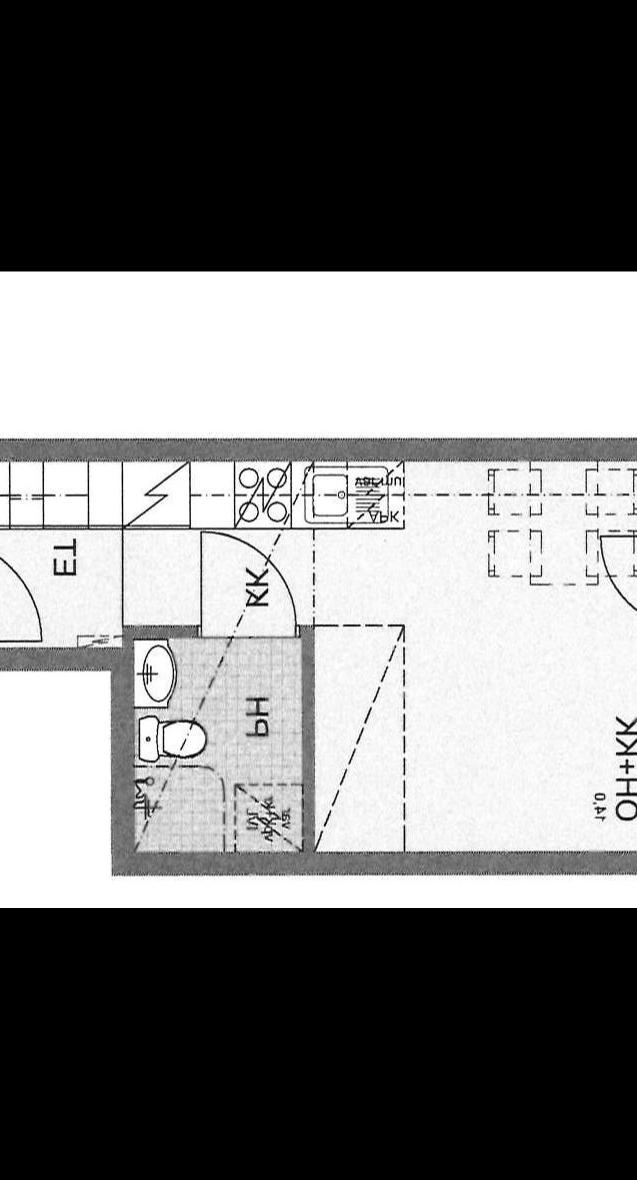door: (191, 524, 298, 646), (588, 518, 637, 639), (0, 534, 45, 646)
